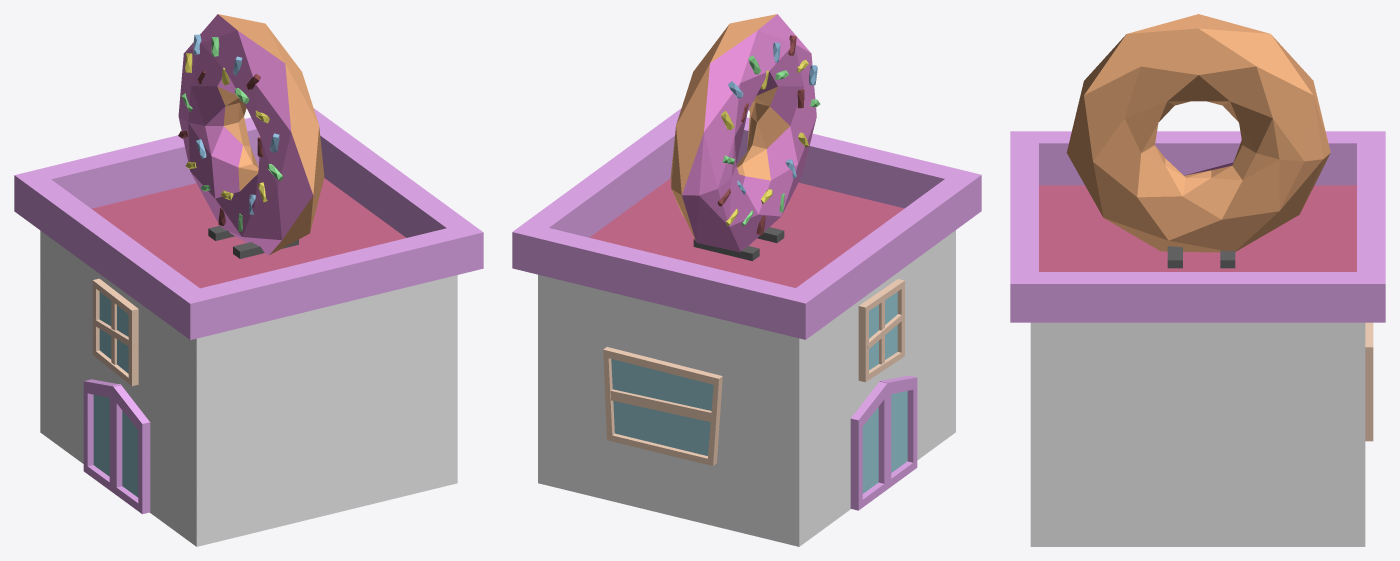
Rendered from Donut_Shop.fbx.
3 renders of one model, left to right at view 1: azimuth 30°, elevation 25°; view 2: azimuth 150°, elevation 25°; view 3: azimuth 270°, elevation 25°, orthographic. The views are drawn at different scales.
Visible parts, largest first — view 1: Donut Shop; view 2: Donut Shop; view 3: Donut Shop.
Part boxes in pixels (left/top/right/bottom): Donut Shop: left=14, top=14, right=483, bottom=546; Donut Shop: left=512, top=14, right=981, bottom=546; Donut Shop: left=1010, top=14, right=1385, bottom=546.
Size of the model in its own units: 1296 by 1816 by 1346.
